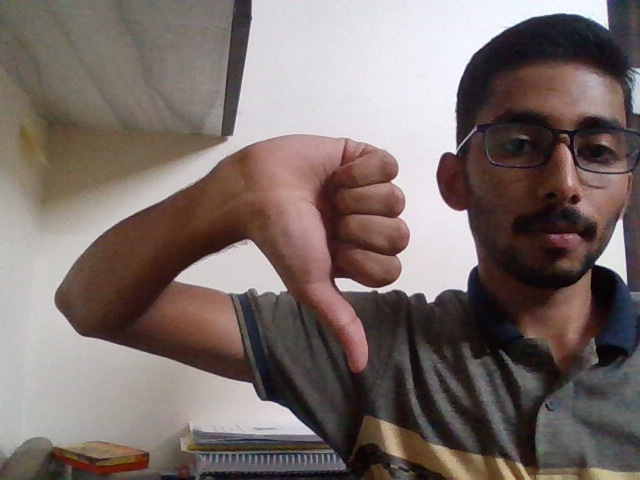No: (225, 93, 418, 411)
